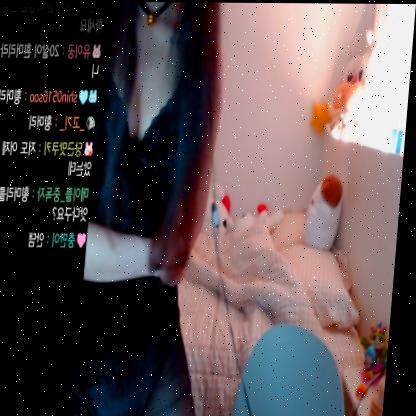streamer: (79, 1, 232, 416)
